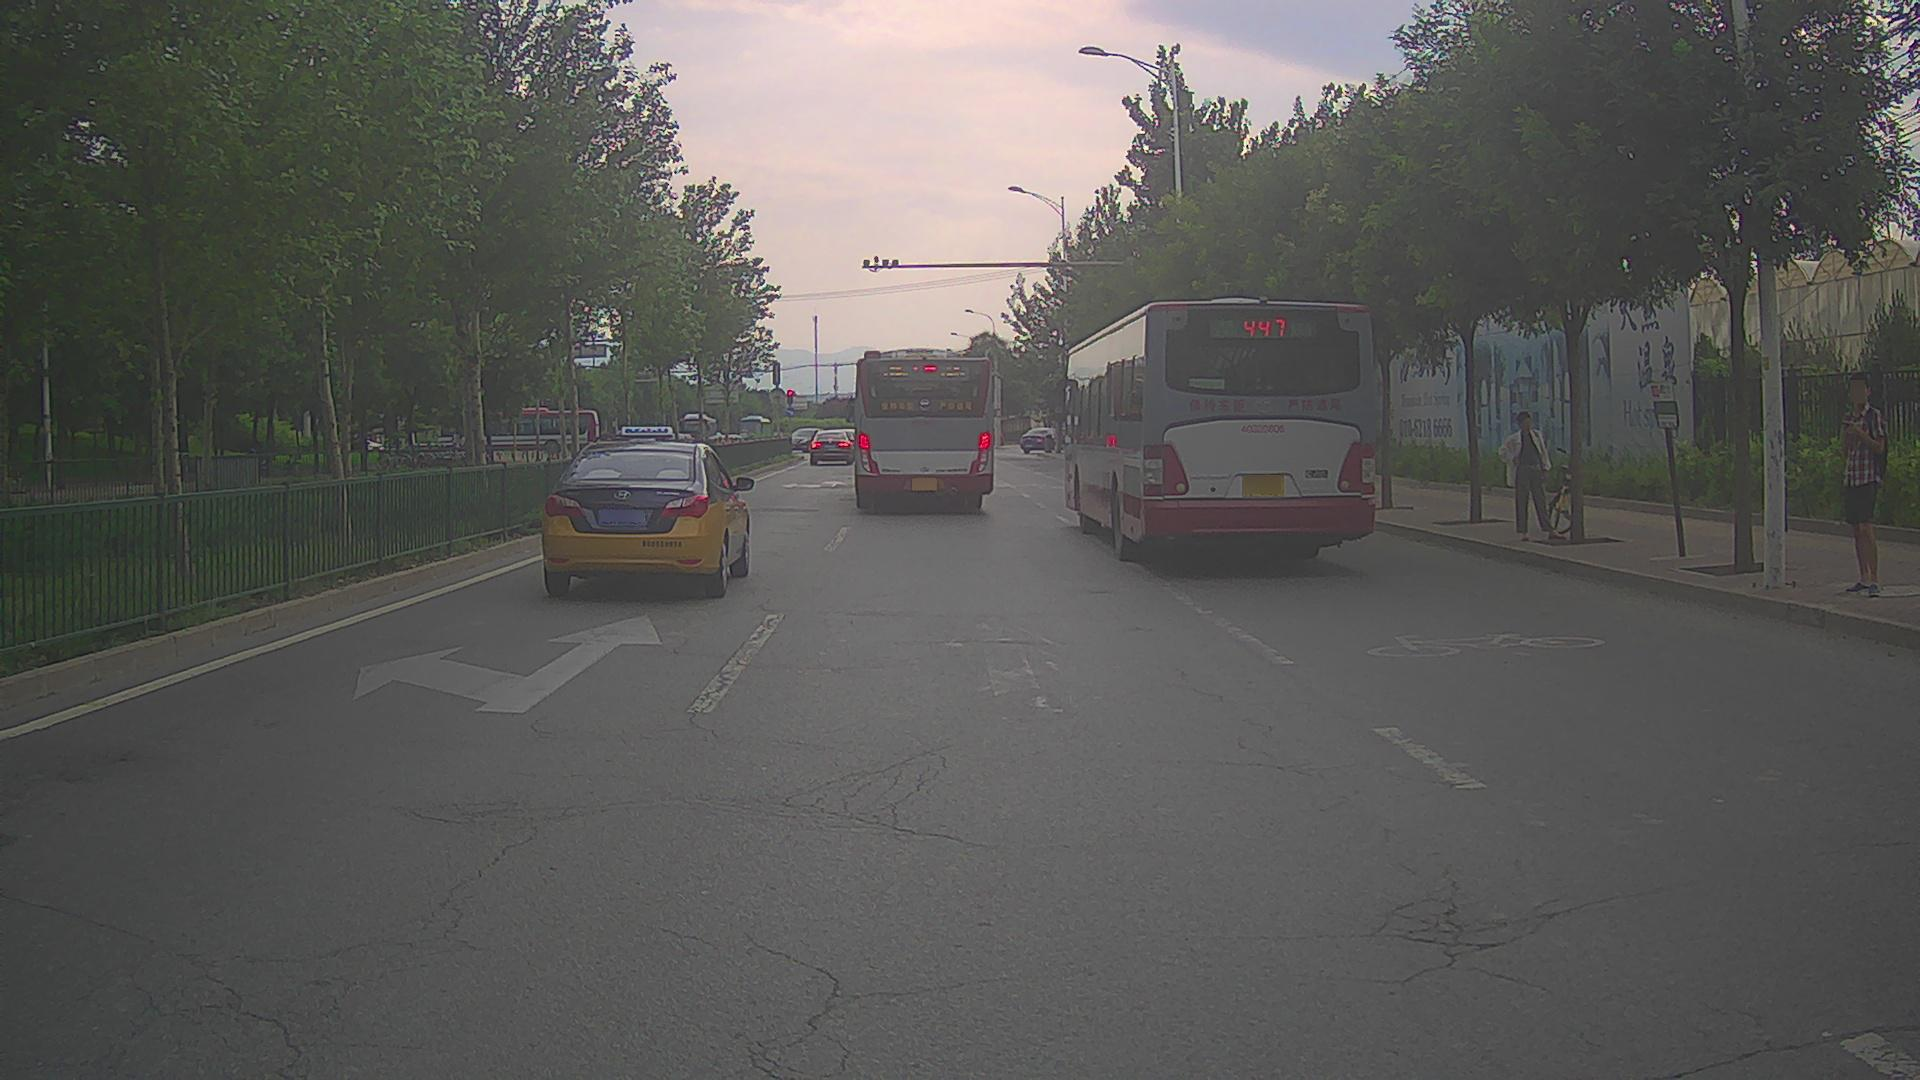bus: (1051, 297, 1375, 566), (845, 347, 994, 508), (437, 405, 598, 460), (675, 413, 718, 451), (737, 414, 772, 448)
car: (543, 426, 754, 596), (808, 429, 854, 465), (1019, 427, 1070, 453), (785, 427, 826, 452)
ignore: (365, 437, 384, 451)
pedestrian: (1840, 372, 1888, 601), (1498, 410, 1565, 542), (452, 431, 466, 459)
